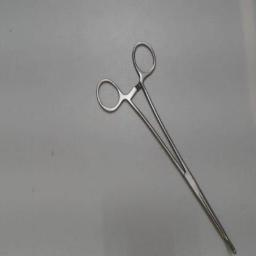Lahey Forceps: (94, 38, 242, 254)
